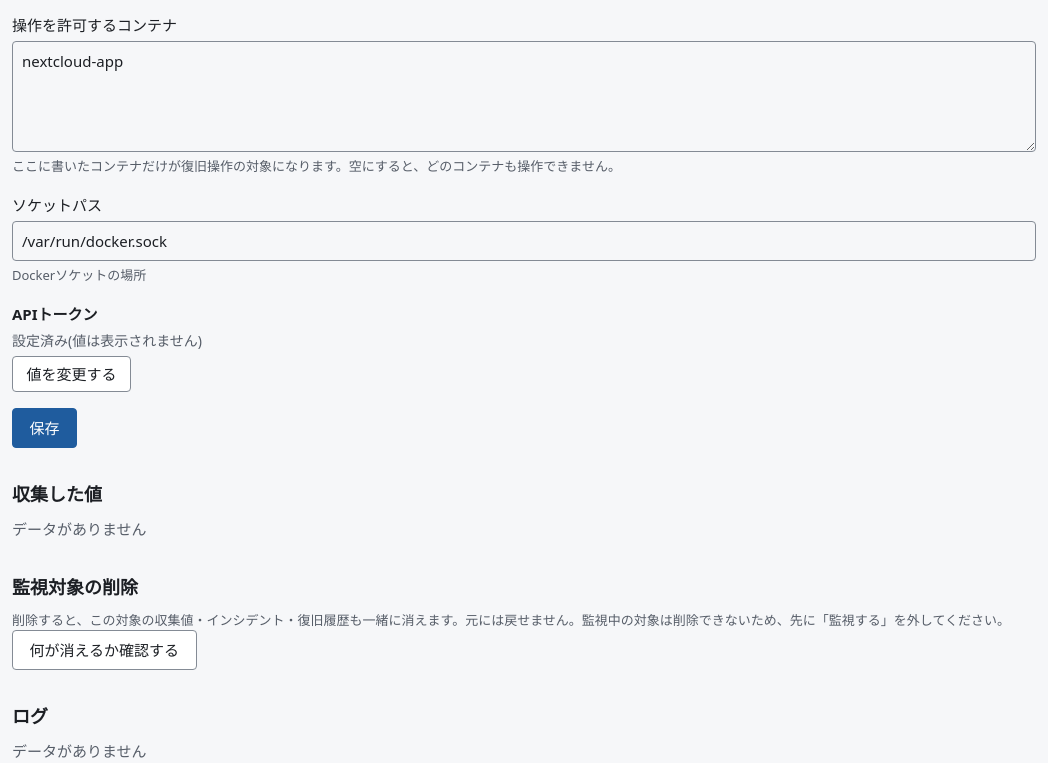
Test: TargetDetailView › 削除で何が消えるかを先に見せる
(page scrolled)
What coordinates should you click on to do the following:
click the button with test id "preview-delete"
I would click on:
 (104, 650)
Its box is [12, 630, 197, 670].
(page scrolled)
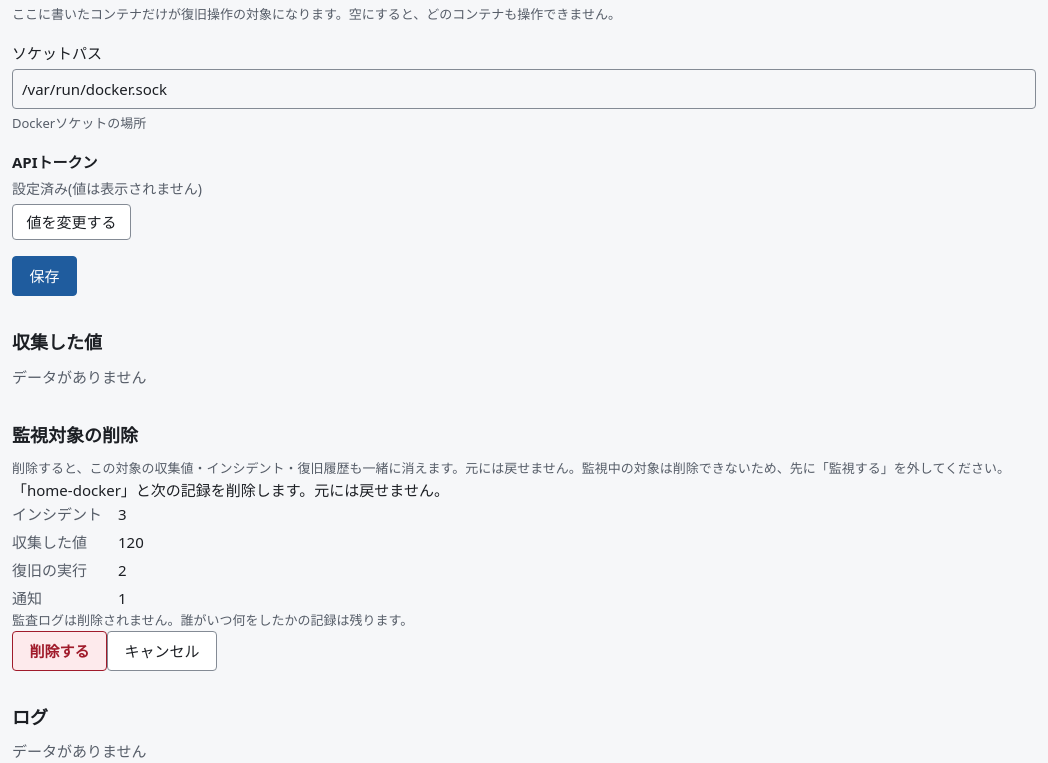
Check: the element with test id "delete-preview" shows "120", box [118, 532, 144, 552]
Check: the element with test id "delete-preview" shows "3", box [118, 504, 127, 524]
